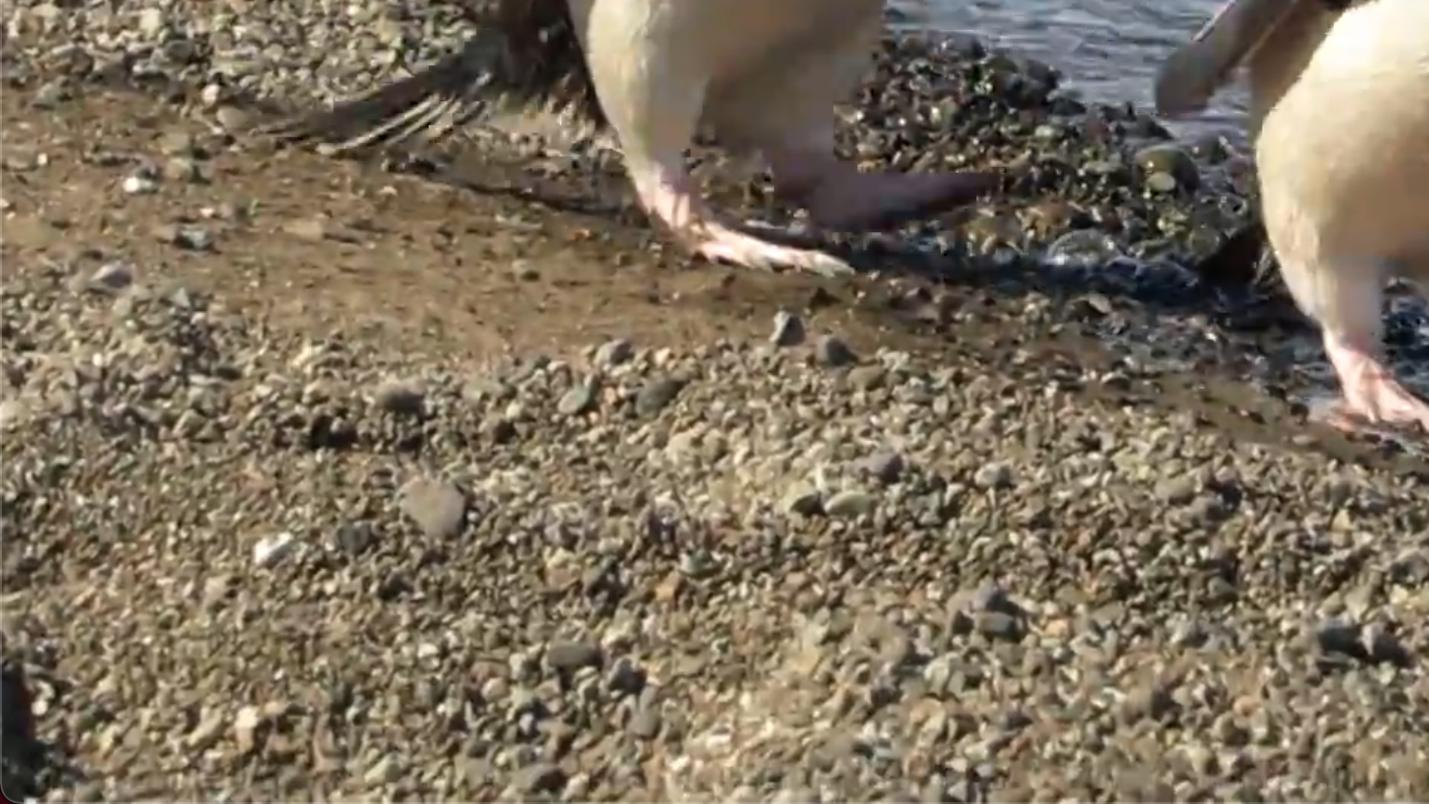Chinstrap Penguin: (351, 0, 1284, 286), (1295, 0, 1429, 451)
